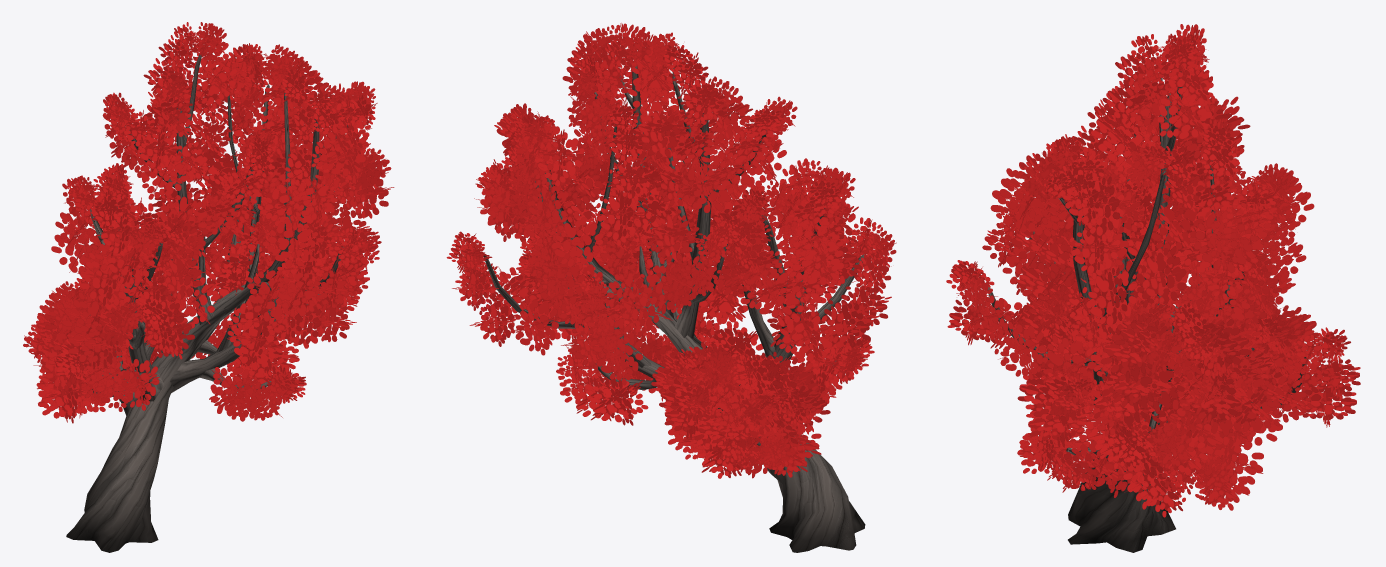
The model's file is TwistedTree_1.glb.
3 views of the same model, side by side, from view 1: azimuth 30°, elevation 25°; view 2: azimuth 150°, elevation 25°; view 3: azimuth 270°, elevation 25° (orthographic). The views are drawn at different scales.
Size of the model in its own units: 13.52 by 16.73 by 11.55.
2 materials, 2 textured.
